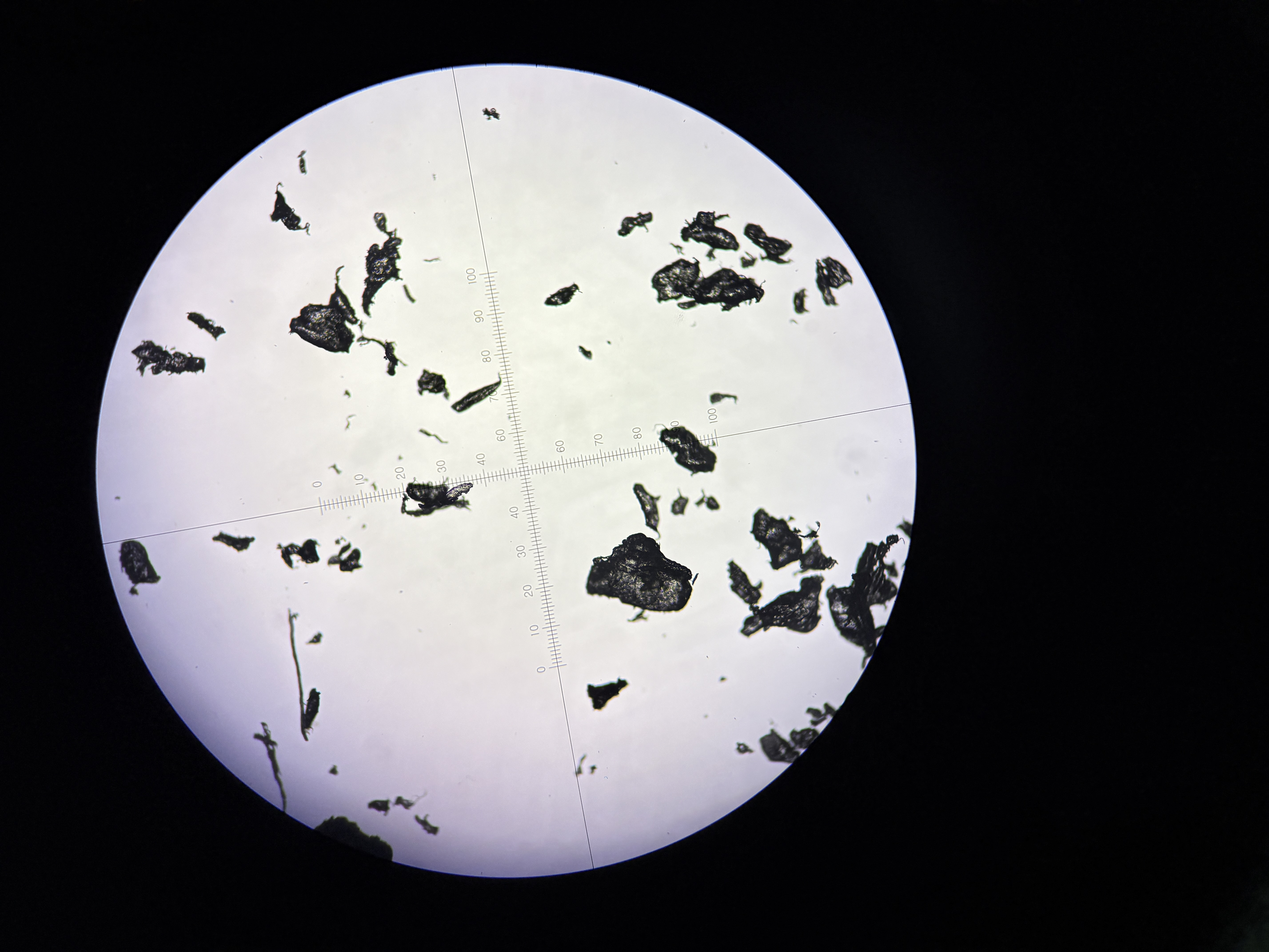microplastic: (584, 532, 700, 625), (287, 264, 361, 355), (738, 573, 825, 638), (749, 507, 822, 570), (361, 212, 404, 318), (826, 583, 877, 669), (850, 534, 906, 612), (673, 267, 767, 312), (313, 815, 394, 862), (652, 423, 718, 478), (286, 608, 310, 743), (253, 721, 288, 813), (269, 180, 313, 238), (119, 540, 162, 597), (742, 222, 796, 265), (356, 334, 409, 377), (449, 372, 503, 413), (679, 217, 741, 252), (400, 492, 472, 519), (727, 559, 763, 611), (632, 482, 662, 540), (130, 340, 173, 378), (585, 676, 630, 712), (758, 728, 801, 764), (796, 539, 839, 575), (148, 351, 206, 376), (184, 312, 227, 343), (815, 258, 842, 307), (415, 368, 451, 401), (820, 256, 854, 290), (405, 481, 450, 506), (542, 282, 584, 308), (616, 210, 654, 238), (211, 531, 257, 553), (303, 687, 321, 736), (439, 482, 474, 506), (393, 789, 429, 811), (275, 541, 301, 571), (788, 727, 820, 750), (338, 547, 364, 574), (327, 541, 352, 566), (299, 538, 322, 565), (413, 813, 440, 836), (670, 489, 690, 517), (792, 287, 811, 316), (751, 606, 772, 632), (803, 702, 836, 718), (417, 428, 449, 444), (367, 798, 392, 817), (709, 392, 739, 406), (738, 251, 759, 270), (480, 106, 503, 123), (896, 519, 913, 542), (295, 149, 309, 176), (402, 283, 417, 304), (734, 741, 756, 755), (305, 630, 323, 647), (574, 753, 587, 776), (577, 344, 594, 361), (705, 494, 720, 512), (677, 300, 700, 311), (694, 488, 706, 508), (669, 241, 684, 256), (344, 414, 357, 431), (809, 716, 829, 727), (327, 463, 342, 476), (875, 624, 886, 640), (327, 764, 340, 777), (423, 256, 443, 264), (335, 536, 347, 546), (358, 319, 367, 332), (343, 388, 352, 400), (589, 764, 598, 775), (788, 319, 799, 326), (371, 481, 377, 492), (397, 454, 404, 461), (719, 676, 727, 682), (360, 524, 366, 530), (170, 346, 176, 352), (606, 339, 612, 345), (347, 515, 353, 520), (363, 477, 368, 482)
